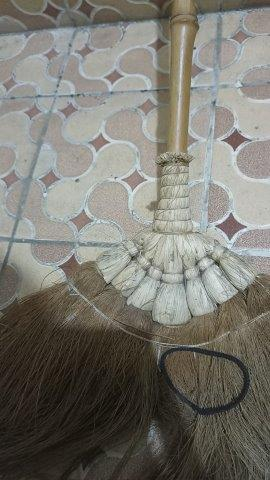karet: (160, 347, 250, 416)
